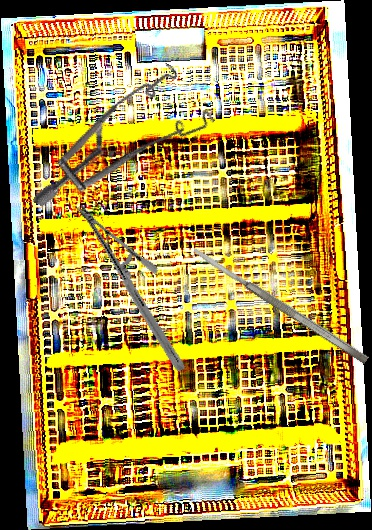Needle Holder: (31, 202, 231, 374)
Spatula Surgical: (191, 244, 370, 366)
Speculum: (32, 37, 228, 259)
